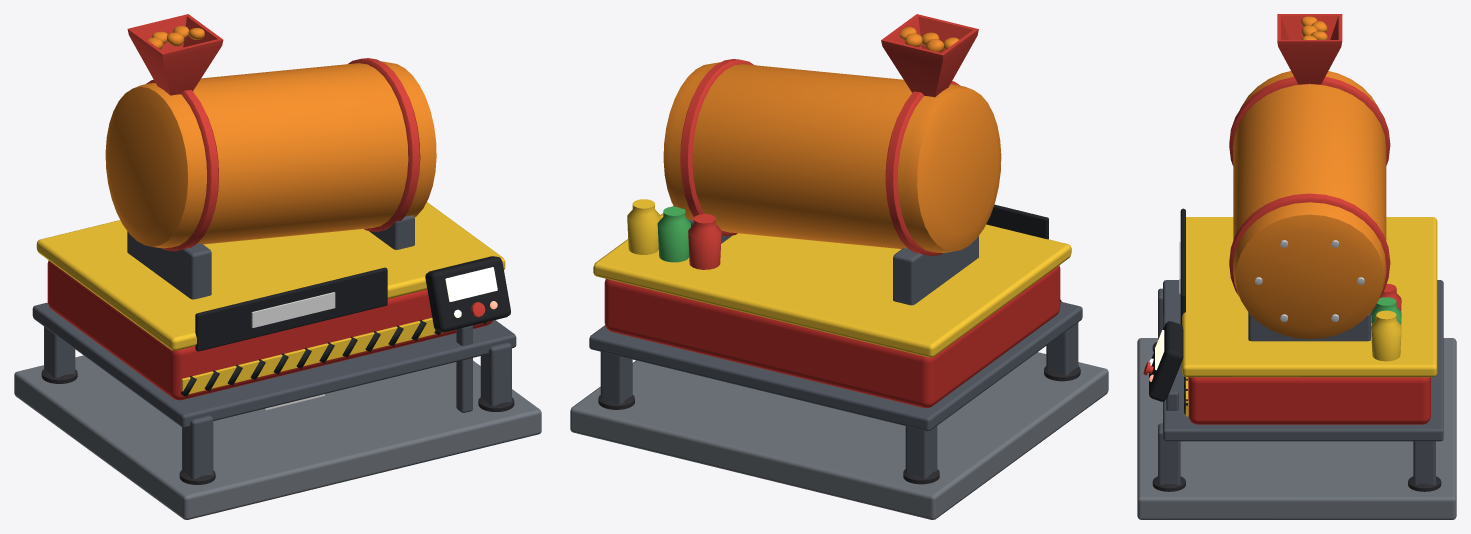
The model's file is SpiceDrum.fbx.
The picture shows the model from 3 angles, left to right: view 1: azimuth 30°, elevation 25°; view 2: azimuth 150°, elevation 25°; view 3: azimuth 270°, elevation 25°; orthographic projection. The views are drawn at different scales.
Visible parts, largest first — view 1: Drum__Orange, Body__Plate, Body__Yellow, Body__MetalDark, Body__RedMetal, Body__Black, Drum__Red, Body__Red, Body__NeonYellow!1, Body__NeonGreen, Body__Rubber, Body__Orange; view 2: Drum__Orange, Body__Plate, Body__Yellow, Body__RedMetal, Body__MetalDark, Body__Red, Drum__Red, Body__Green, Body__Black, Body__Rubber, Body__Orange; view 3: Drum__Orange, Body__Plate, Body__Yellow, Body__MetalDark, Body__RedMetal, Drum__Red, Body__Red, Body__Black, Body__Rubber, Body__Orange, Body__Green.
Part boxes in pixels (x1,y1,x2,y2): Drum__Orange: [105, 61, 436, 248]; Body__Plate: [14, 355, 541, 519]; Body__Yellow: [36, 202, 505, 395]; Body__MetalDark: [32, 215, 516, 479]; Body__RedMetal: [47, 260, 492, 400]; Body__Black: [180, 256, 510, 396]; Drum__Red: [145, 58, 420, 251]; Body__Red: [127, 14, 485, 317]; Body__NeonYellow!1: [251, 292, 335, 327]; Body__NeonGreen: [445, 267, 497, 317]; Body__Rubber: [41, 369, 514, 484]; Body__Orange: [147, 26, 204, 49]; Drum__Orange: [663, 62, 1001, 253]; Body__Plate: [570, 352, 1108, 519]; Body__Yellow: [593, 199, 1071, 357]; Body__RedMetal: [604, 265, 1060, 407]; Body__MetalDark: [589, 219, 1082, 478]; Body__Red: [688, 14, 978, 269]; Drum__Red: [680, 59, 959, 256]; Body__Green: [657, 206, 690, 262]; Body__Black: [986, 204, 1061, 301]; Body__Rubber: [598, 366, 1080, 484]; Body__Orange: [900, 27, 958, 52]; Drum__Orange: [1233, 71, 1386, 339]; Body__Plate: [1137, 338, 1456, 519]; Body__Yellow: [1182, 217, 1437, 416]; Body__MetalDark: [1158, 280, 1443, 484]; Body__RedMetal: [1188, 377, 1430, 424]; Drum__Red: [1229, 76, 1390, 295]; Body__Red: [1143, 14, 1401, 375]; Body__Black: [1149, 208, 1187, 413]; Body__Rubber: [1152, 341, 1441, 491]; Body__Orange: [1300, 16, 1327, 45]; Body__Green: [1371, 297, 1401, 324].
Bounding box in the file's own units: 6 × 6.9 × 5.
